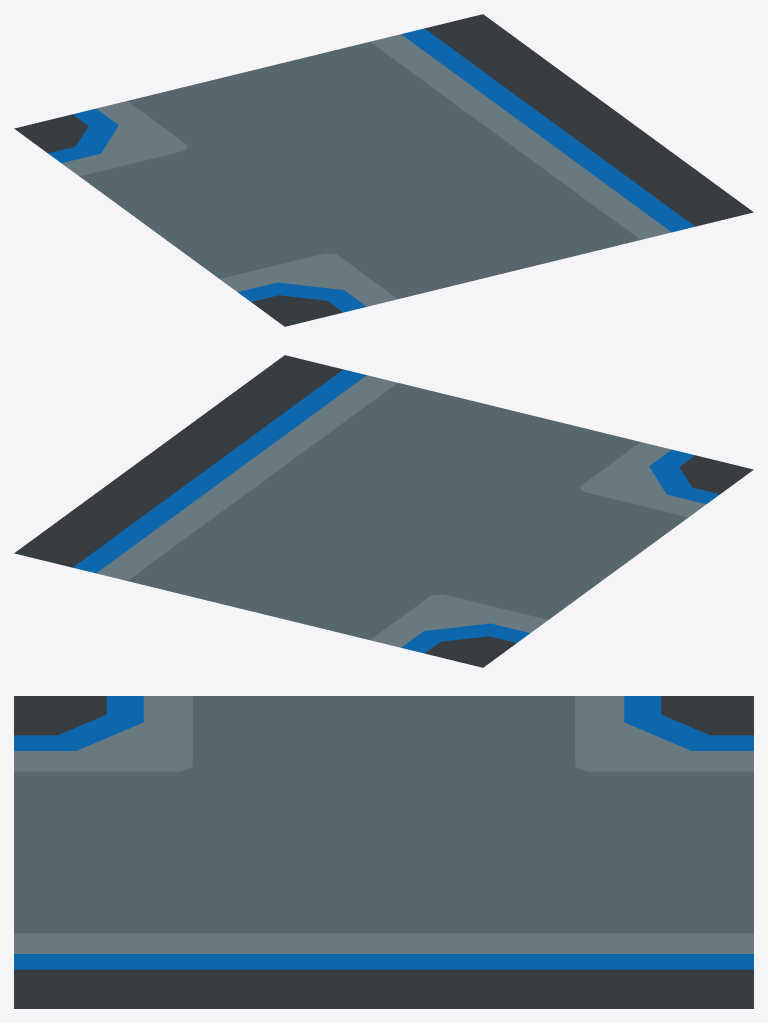
The model's file is Ceiling_type_C_008.004.fbx.
3 renders of one model, top to bottom at view 1: azimuth 30°, elevation 25°; view 2: azimuth 150°, elevation 25°; view 3: azimuth 270°, elevation 25°, orthographic. The views are drawn at different scales.
Visible parts, largest first — view 1: Ceiling_type_C_008.004; view 2: Ceiling_type_C_008.004; view 3: Ceiling_type_C_008.004.
Boxes of the visible parts, x1,y1,x2,y2 form: Ceiling_type_C_008.004: (14,14,753,326); Ceiling_type_C_008.004: (14,355,753,667); Ceiling_type_C_008.004: (14,696,753,1008).
Bounding box in the file's own units: 400 × 400 × 4.55.
